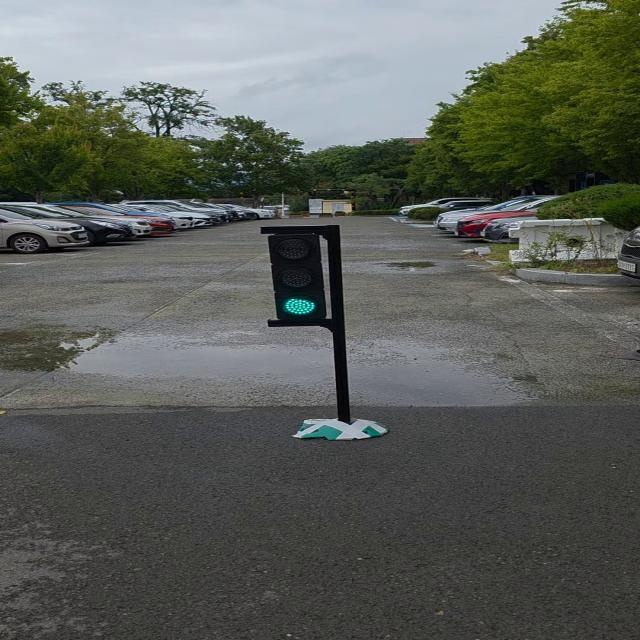green: (261, 227, 342, 325)
